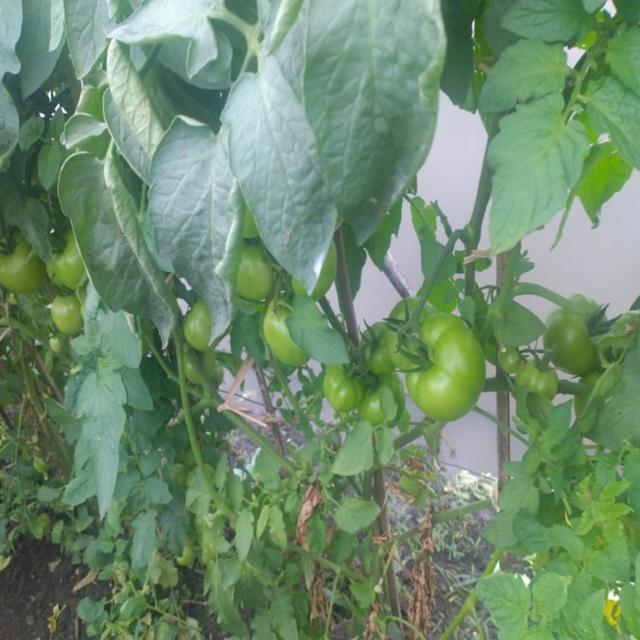tomato: (406, 317, 480, 422), (551, 296, 609, 370), (44, 236, 93, 302), (1, 239, 44, 291), (355, 321, 397, 374), (268, 306, 301, 369), (234, 248, 270, 303), (47, 293, 87, 339), (327, 369, 367, 410), (525, 360, 568, 398), (387, 296, 420, 345), (189, 300, 210, 353), (499, 350, 527, 373), (179, 549, 194, 564)
